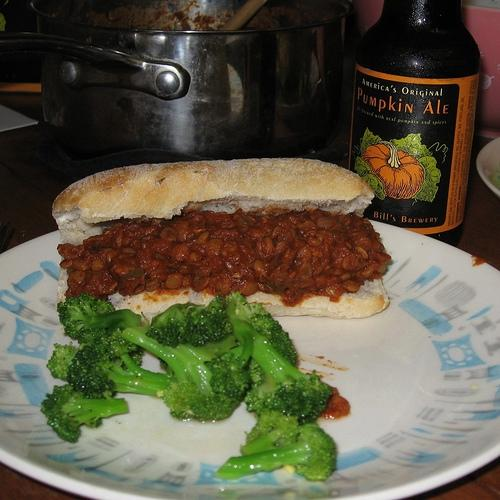broccoli: (203, 318, 333, 426), (120, 327, 240, 422), (215, 422, 337, 482), (66, 336, 178, 398), (226, 292, 298, 388), (42, 384, 128, 443), (146, 294, 233, 349), (56, 292, 143, 344), (239, 414, 300, 456), (46, 340, 93, 382)
pumpkin: (362, 140, 425, 198)
